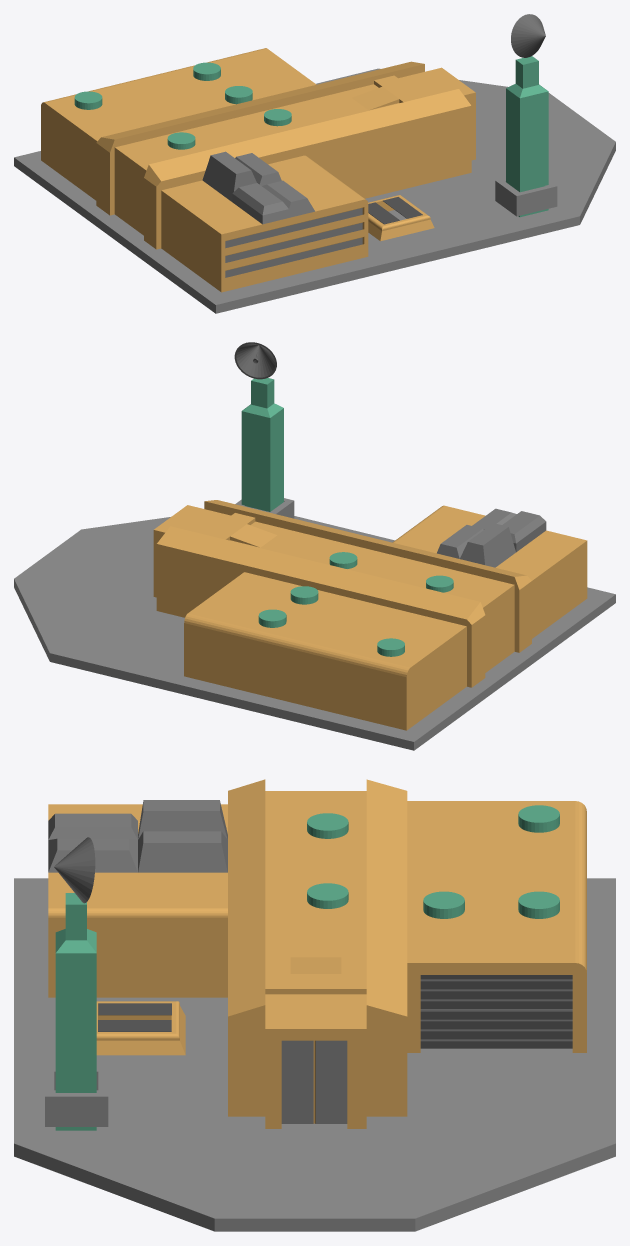
3 views of the same model, one above another, from view 1: azimuth 30°, elevation 25°; view 2: azimuth 150°, elevation 25°; view 3: azimuth 270°, elevation 25° (orthographic). The views are drawn at different scales.
Parts seen in each view (by area): view 1: База, Фундамент, Башня(Антены), Крыша(ХЗ), Фундамент антены, Ракетная Шахта, Антена.001, Вентиляция, Вентиляция.004, Вентиляция.001, Вентиляция.003, Вентиляция.002 (+1 smaller); view 2: База, Фундамент, Башня(Антены), Крыша(ХЗ), Антена.001; view 3: База, Фундамент, Крыша(ХЗ), Башня(Антены), Ракетная Шахта, Фундамент антены, Ворота.002, Ворота.004, Ворота.005, Ворота.006, Ворота.007, Ворота.003 (+10 smaller).
Boxes of the visible parts, x1,y1,x2,y2 form: База: (41,48,475,292); Фундамент: (14,68,615,313); Башня(Антены): (506,56,548,217); Крыша(ХЗ): (202,151,314,224); Фундамент антены: (495,178,557,216); Ракетная Шахта: (368,195,434,241); Антена.001: (511,14,545,57); Вентиляция: (74,91,102,109); Вентиляция.004: (193,62,220,80); Вентиляция.001: (225,86,252,104); Вентиляция.003: (167,132,195,149); Вентиляция.002: (264,109,291,126); База: (153,500,587,730); Фундамент: (14,516,615,750); Башня(Антены): (241,378,283,511); Крыша(ХЗ): (437,508,546,567); Антена.001: (234,342,276,379); База: (48,779,586,1128); Фундамент: (14,878,615,1231); Крыша(ХЗ): (48,800,227,872); Башня(Антены): (55,893,96,1130); Ракетная Шахта: (96,1001,185,1055); Фундамент антены: (45,1067,108,1126); Ворота.002: (420,1029,572,1039); Ворота.004: (420,1009,572,1019); Ворота.005: (420,999,572,1009); Ворота.006: (420,989,572,999); Ворота.007: (420,979,572,989); Ворота.003: (420,1019,572,1029).
Size of the model in its own units: 2690 by 1088 by 2012.
